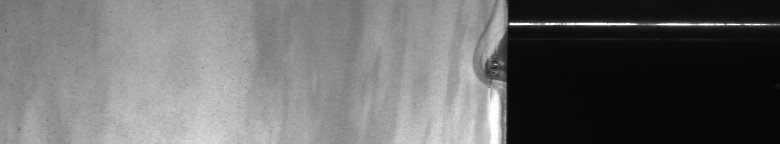hb: (462, 12, 496, 128)
